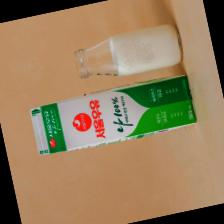milk: (28, 70, 198, 158)
